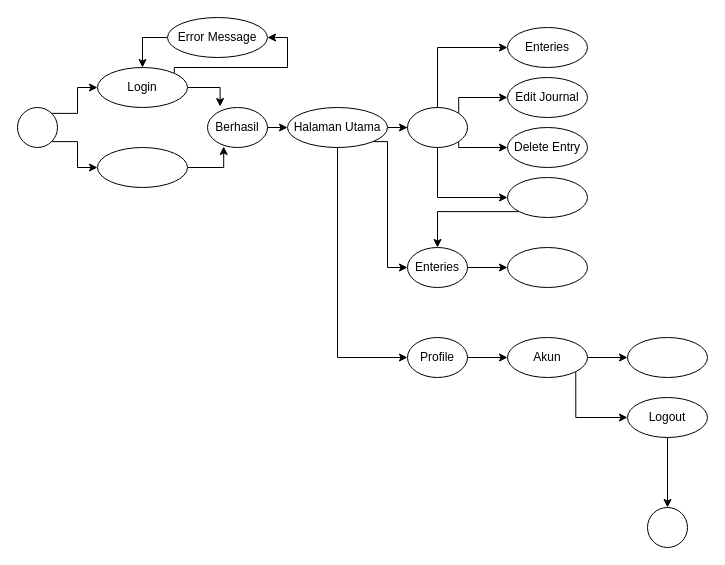
Image size: 725x565. Some labels were removed from this diagram. Here are the shapes that lost their labels. From the top down, the centre of each, then its label:
point 437,127: Journal
point 142,167: Sign Up
point 547,197: Create Entry
point 547,267: Edit Entry
point 667,357: Edit Akun
